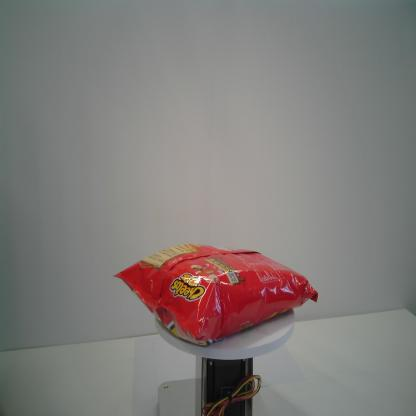Puffed Food: (110, 242, 321, 351)
